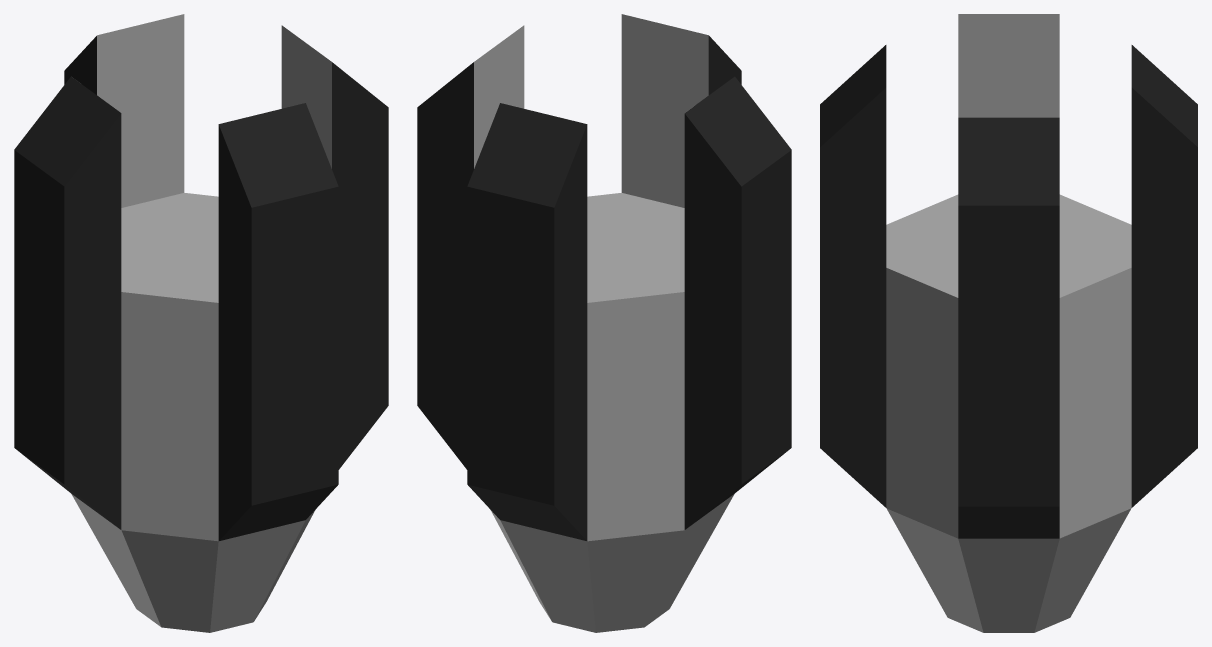
The model's file is blaster.fbx.
3 views of the same model, side by side, from view 1: azimuth 30°, elevation 25°; view 2: azimuth 150°, elevation 25°; view 3: azimuth 270°, elevation 25° (orthographic).
Visible parts, largest first — view 1: Cylinder; view 2: Cylinder; view 3: Cylinder.
Boxes of the visible parts, <box> form: Cylinder: <box>14,14,388,632</box>; Cylinder: <box>417,14,791,632</box>; Cylinder: <box>820,14,1197,632</box>.
Size of the model in its own units: 2.85 by 4.5 by 2.85.
